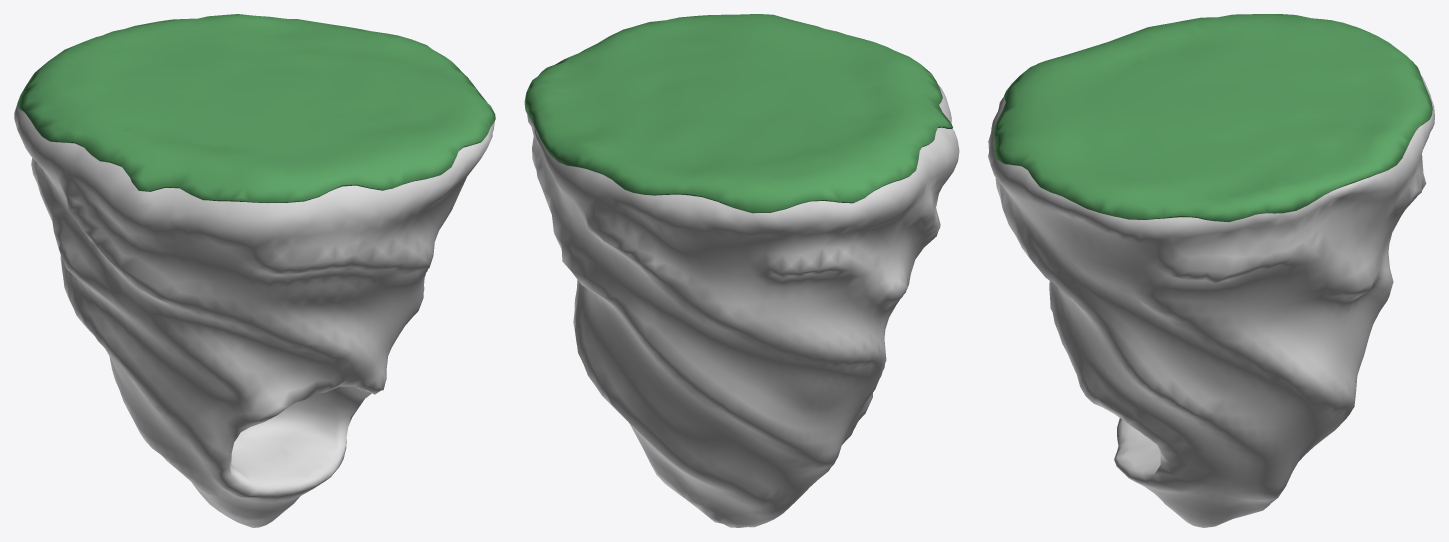
The model's file is IslandCone1.fbx.
3 views of the same model, side by side, from view 1: azimuth 30°, elevation 25°; view 2: azimuth 150°, elevation 25°; view 3: azimuth 270°, elevation 25° (orthographic).
Visible parts, largest first — view 1: IslandBowl1Base.002, IslandBowl1Base.003; view 2: IslandBowl1Base.002, IslandBowl1Base.003; view 3: IslandBowl1Base.002, IslandBowl1Base.003.
Part boxes in pixels (x1,y1,x2,y2): IslandBowl1Base.002: [14, 104, 494, 527]; IslandBowl1Base.003: [17, 14, 495, 203]; IslandBowl1Base.002: [527, 84, 959, 527]; IslandBowl1Base.003: [524, 14, 952, 213]; IslandBowl1Base.002: [988, 75, 1434, 527]; IslandBowl1Base.003: [993, 14, 1432, 222].
Size of the model in its own units: 8262 by 8697 by 8065.
